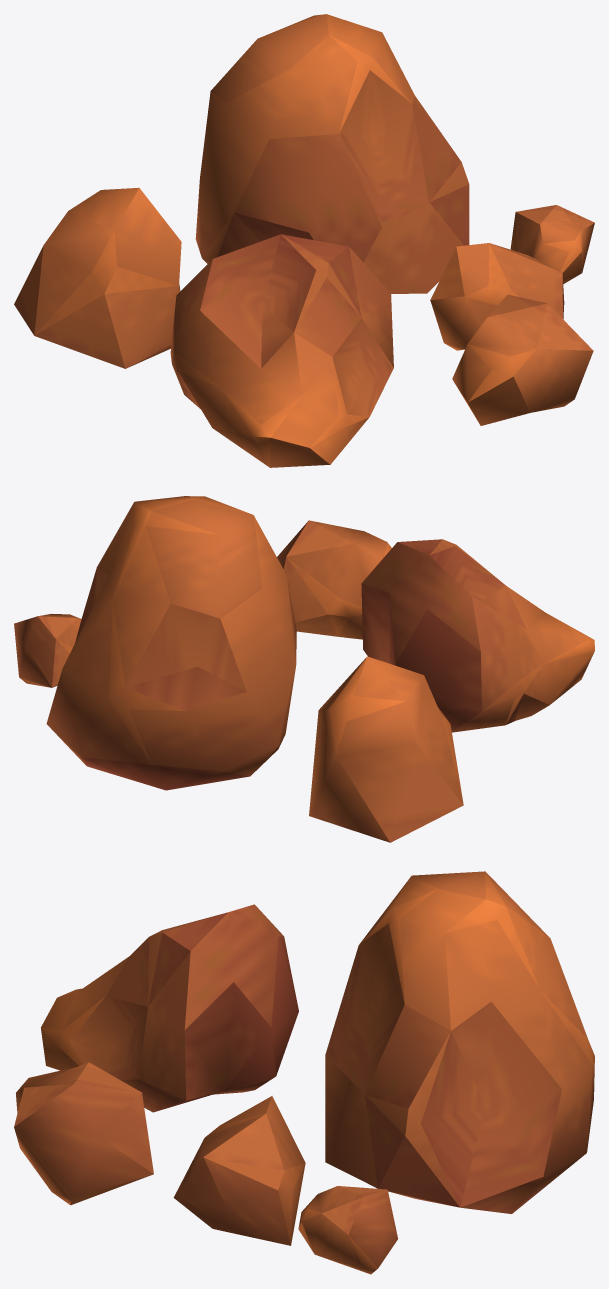
Rendered from copper-nuggets.glb.
The picture shows the model from 3 angles, top to bottom: view 1: azimuth 30°, elevation 25°; view 2: azimuth 150°, elevation 25°; view 3: azimuth 270°, elevation 25°; orthographic projection. The views are drawn at different scales.
Visible parts, largest first — view 1: Copper_Nuggets; view 2: Copper_Nuggets; view 3: Copper_Nuggets.
Boxes of the visible parts, <box> form: Copper_Nuggets: <box>14,14,594,467</box>; Copper_Nuggets: <box>14,496,594,842</box>; Copper_Nuggets: <box>14,871,594,1274</box>.
Size of the model in its own units: 0.9288 by 0.4749 by 0.8501.
1 material, 1 textured.
